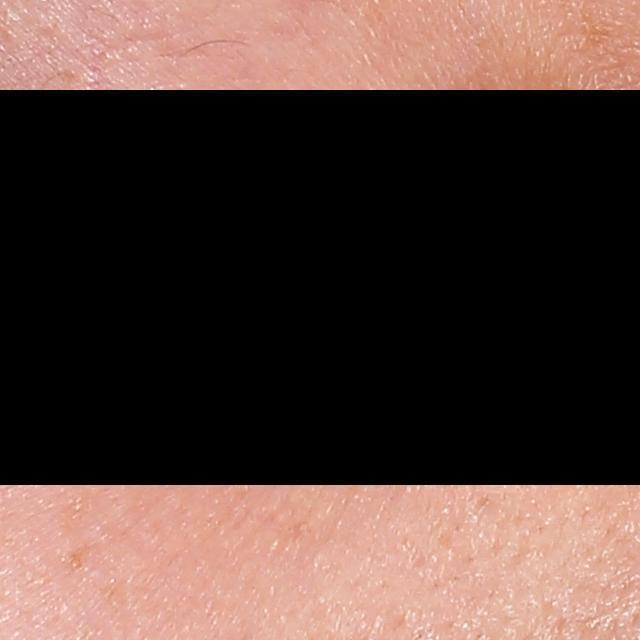melasma: (51, 476, 103, 540), (59, 543, 88, 569)
